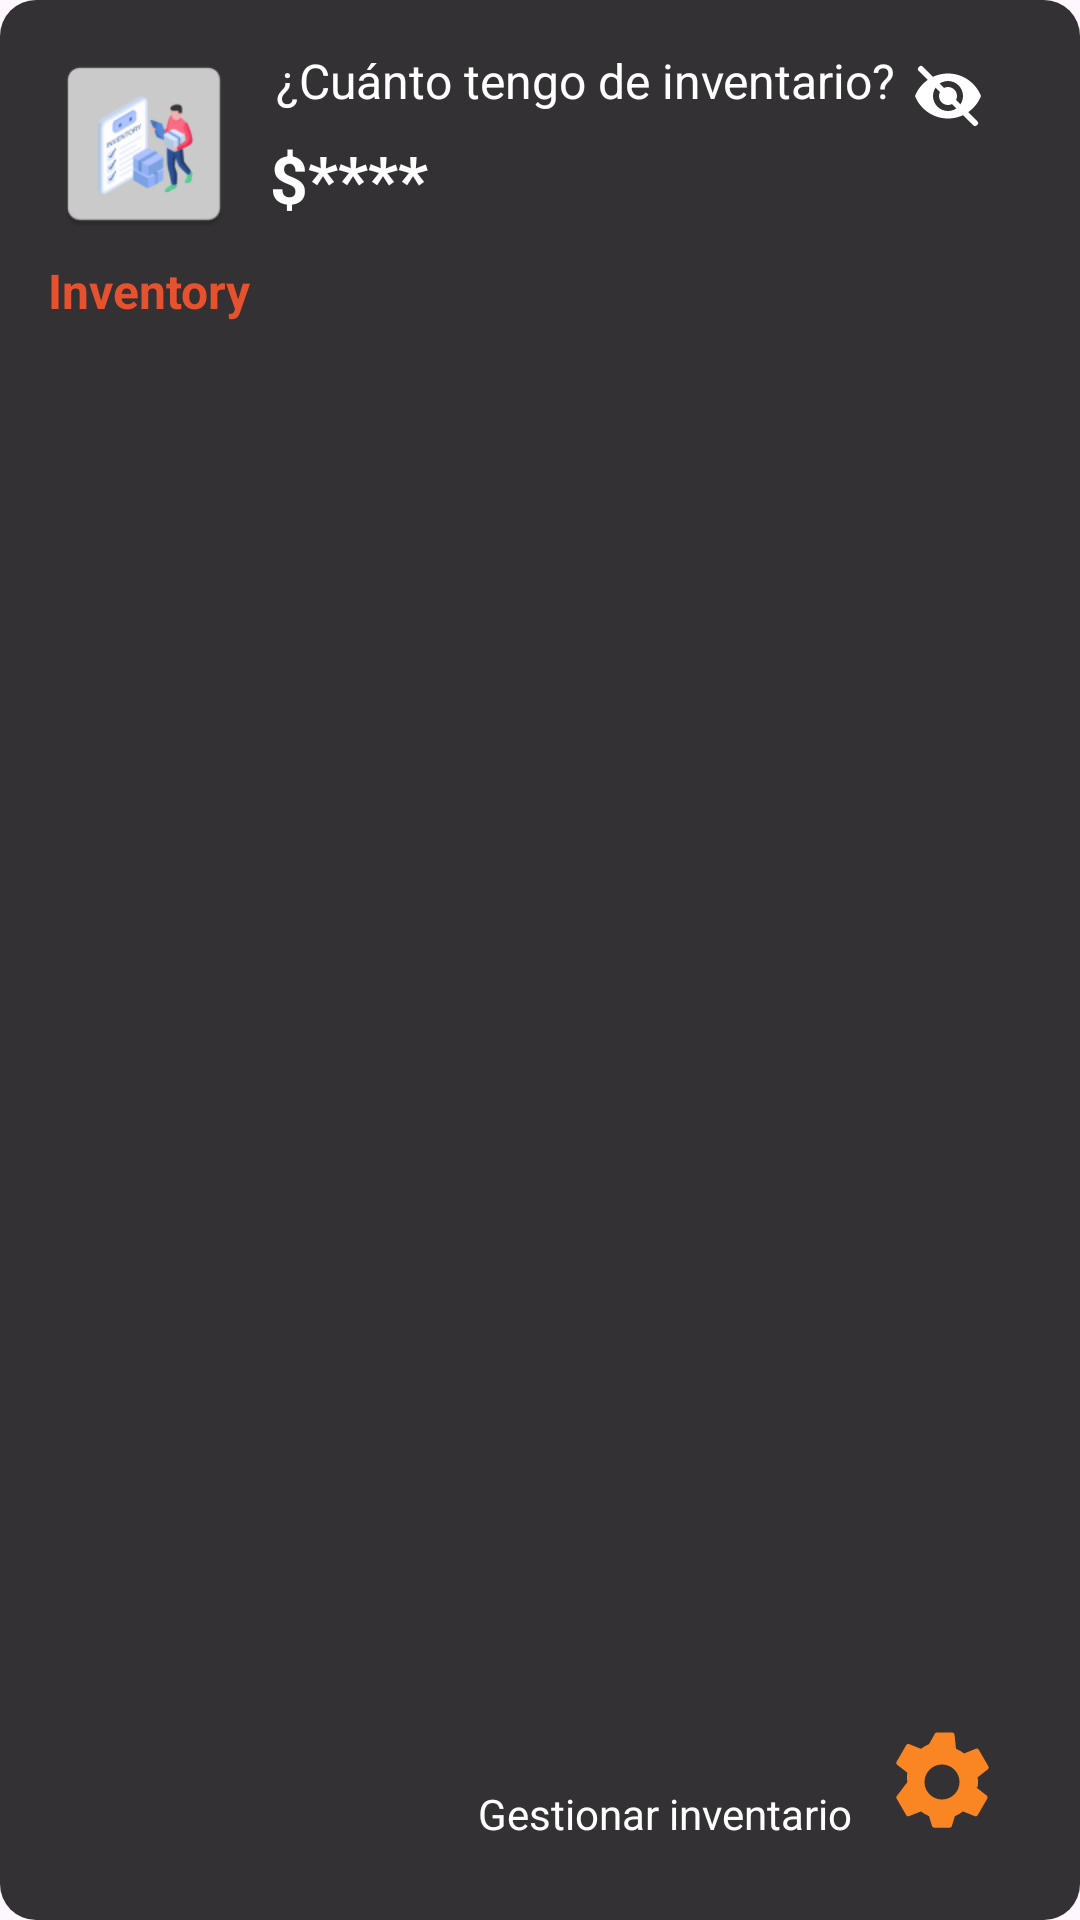

Screen size 1080×1920. Icon name, then its box in pixels as {"left": x1, "top": y1, "right": x2, "bottom": y2}:
eye closed: {"left": 915, "top": 65, "right": 981, "bottom": 126}
manage: {"left": 896, "top": 1732, "right": 989, "bottom": 1828}
